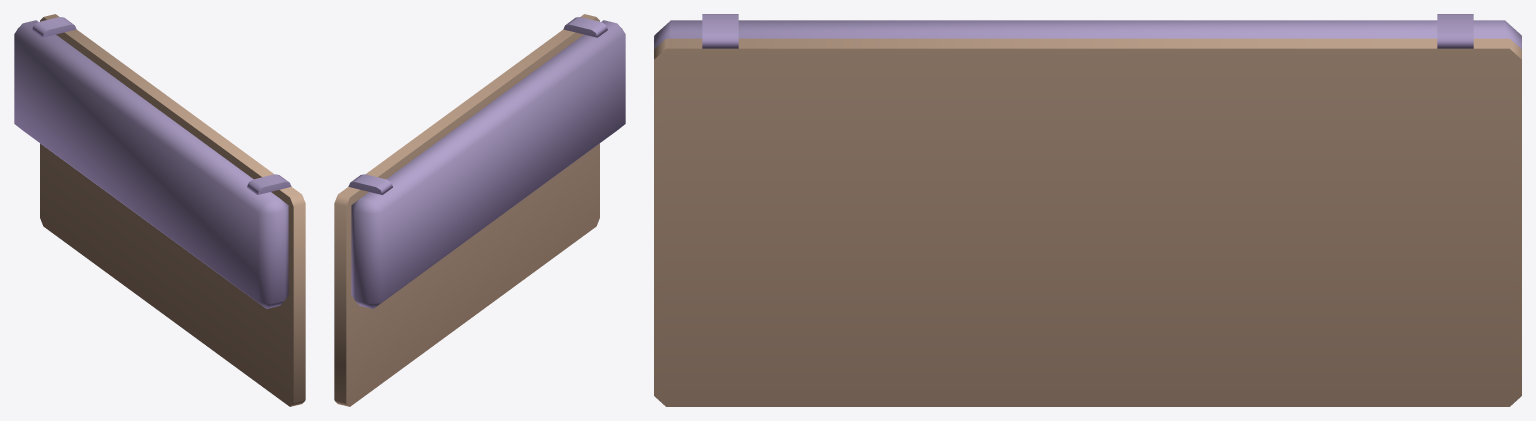
File: bed-backboard-padding-upper.glb
3 views of the same model, side by side, from view 1: azimuth 30°, elevation 25°; view 2: azimuth 150°, elevation 25°; view 3: azimuth 270°, elevation 25° (orthographic). The views are drawn at different scales.
Visible parts, largest first — view 1: bed-backboard-padding-upper; view 2: bed-backboard-padding-upper; view 3: bed-backboard-padding-upper.
Part boxes in pixels (box(x1,y1,x2,y2)): bed-backboard-padding-upper: box(14, 14, 305, 406); bed-backboard-padding-upper: box(334, 14, 625, 406); bed-backboard-padding-upper: box(654, 14, 1521, 406).
Size of the model in its own units: 0.175 by 0.845 by 1.8.
